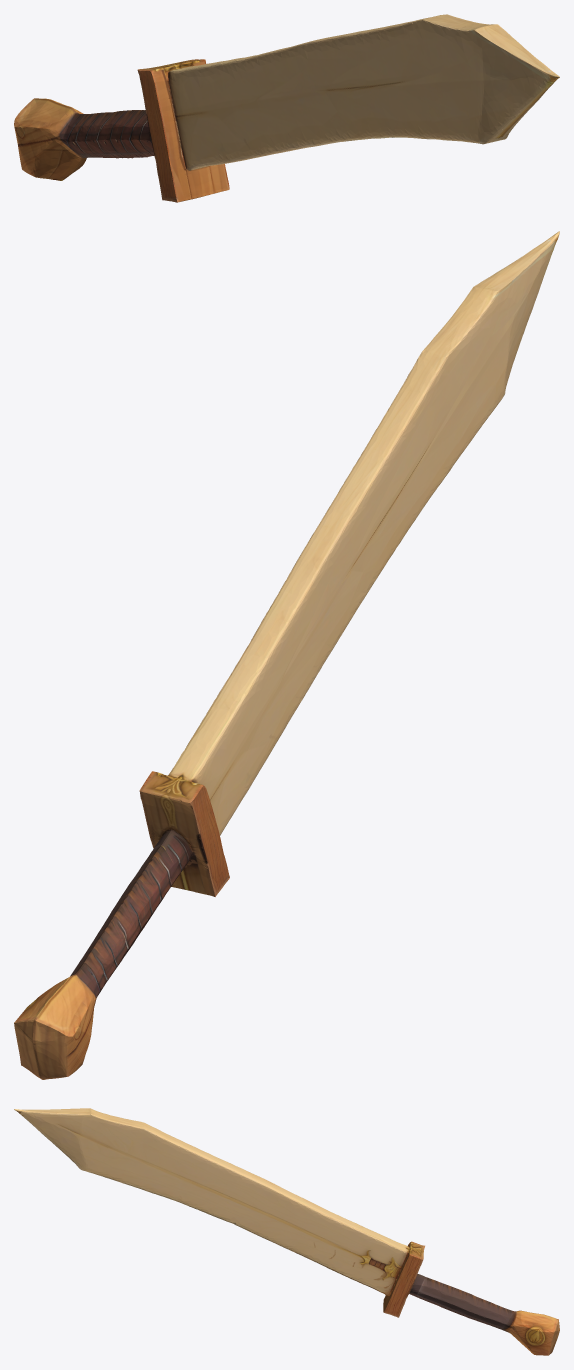
File: WSModel.fbx
3 views of the same model, one above another, from view 1: azimuth 30°, elevation 25°; view 2: azimuth 150°, elevation 25°; view 3: azimuth 270°, elevation 25° (orthographic). The views are drawn at different scales.
Visible parts, largest first — view 1: temp; view 2: temp; view 3: temp.
Boxes of the visible parts, x1,y1,x2,y2 form: temp: [14, 14, 559, 202]; temp: [14, 231, 559, 1079]; temp: [14, 1108, 559, 1355].
Bounding box in the file's own units: 12.64 × 98.5 × 199.
Materials: 1 (1 with a texture image).
